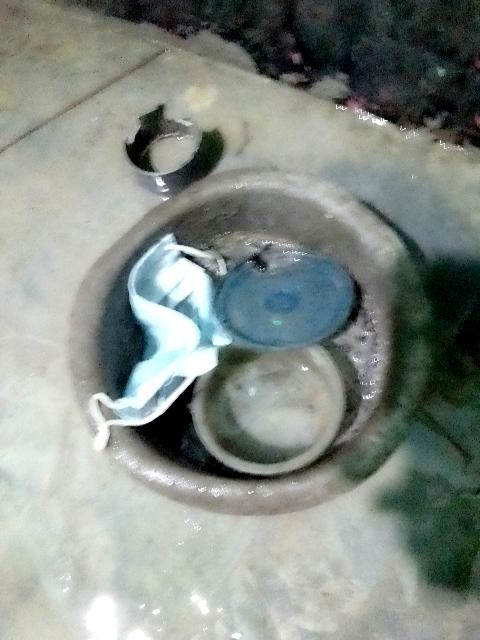mask: (119, 221, 206, 422)
